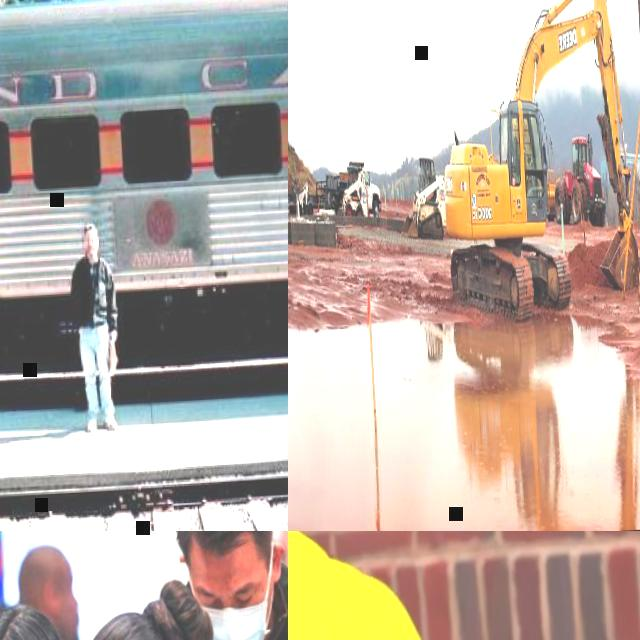machinery: (431, 0, 640, 317), (544, 134, 606, 227), (398, 156, 448, 240), (314, 158, 382, 216), (340, 170, 369, 217)
mask: (187, 559, 281, 640)
no_helmet: (70, 606, 191, 640), (0, 597, 66, 640), (18, 546, 73, 586), (177, 531, 279, 552), (83, 222, 99, 234)
no_mask: (55, 611, 84, 640), (85, 246, 96, 256)
no_vest: (288, 531, 376, 640), (74, 258, 112, 328)
person: (0, 571, 288, 640), (288, 531, 460, 640), (170, 531, 288, 640), (67, 220, 121, 430), (14, 543, 85, 640), (0, 592, 133, 640)
